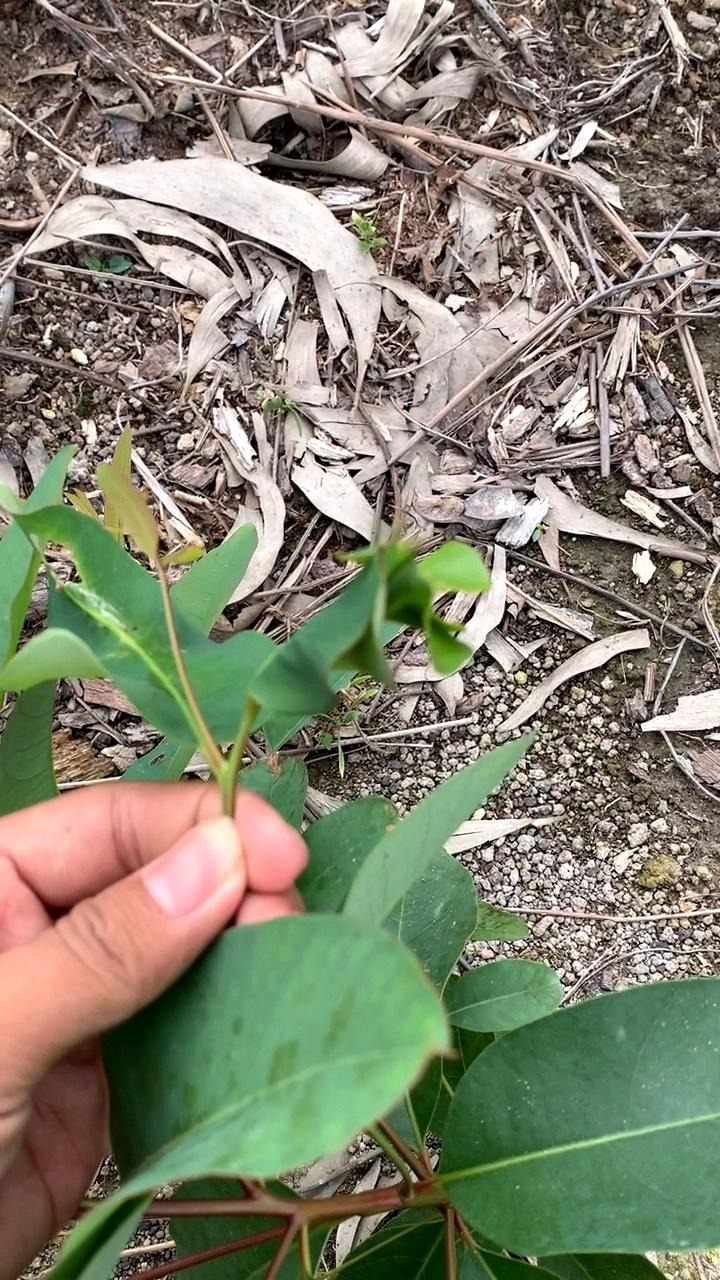Leaf Roller - Leaf: (233, 548, 489, 743)
